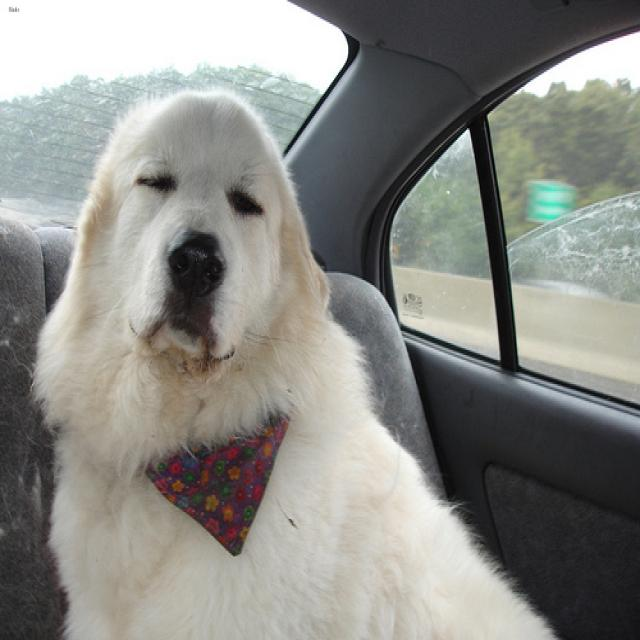dog-great_pyrenees: (27, 72, 572, 637)
